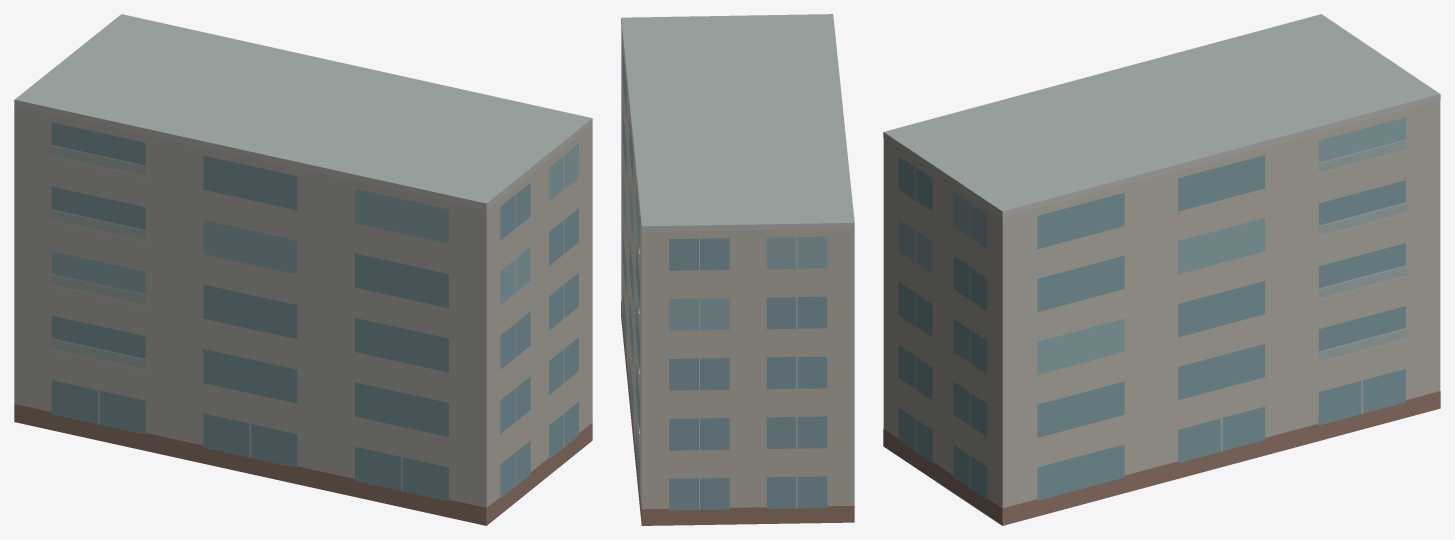
Rendered from survey-upis-32720540.glb.
The picture shows the model from 3 angles, left to right: view 1: azimuth 30°, elevation 25°; view 2: azimuth 150°, elevation 25°; view 3: azimuth 270°, elevation 25°; orthographic projection. The views are drawn at different scales.
Parts seen in each view (by area): view 1: survey-upis-32720540.tmp; view 2: survey-upis-32720540.tmp; view 3: survey-upis-32720540.tmp.
Part boxes in pixels (x1,y1,x2,y2): survey-upis-32720540.tmp: [14, 14, 592, 525]; survey-upis-32720540.tmp: [621, 14, 854, 525]; survey-upis-32720540.tmp: [883, 14, 1440, 525].
Bounding box in the file's own units: 17.51 × 13 × 20.88.
